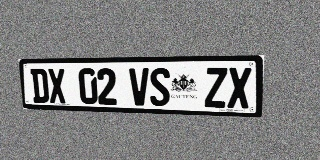0: (78, 68, 98, 104)
2: (97, 68, 117, 105)
D: (30, 69, 49, 103)
S: (149, 68, 170, 106)
V: (129, 68, 150, 106)
X: (227, 67, 251, 108), (47, 68, 67, 104)
Z: (205, 67, 227, 108)
